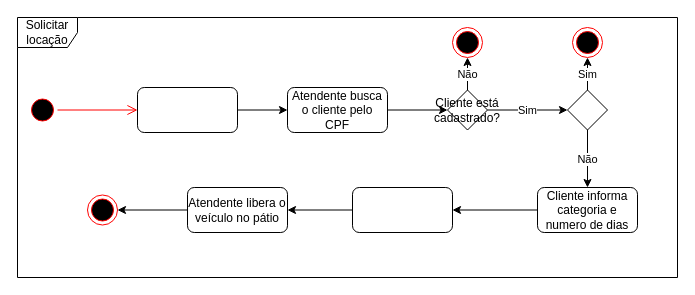
Image size: 695x295. Some labels were removed from this diagram. The centre of each missing label's shape, as x and y in pixels:
"Cliente possui locações pendentes?" goes at point 587,109.
"Cliente realiza o pagamento" goes at point 402,209.
"Cliente solicita a locação de um veículo" goes at point 187,109.
